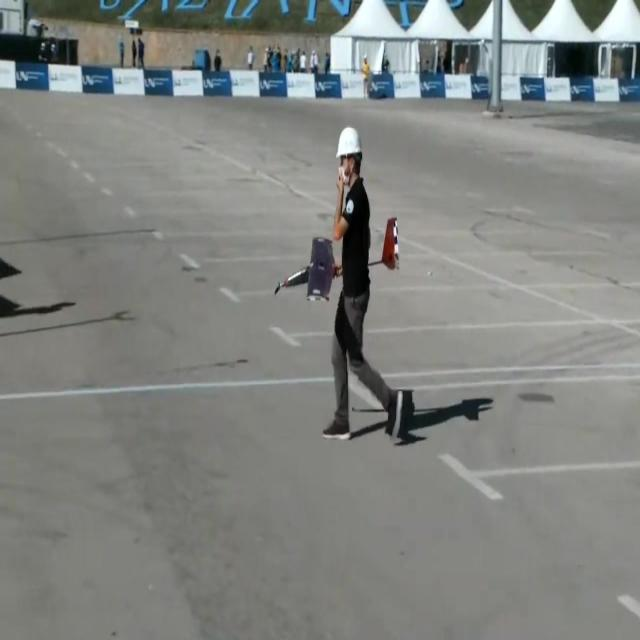iha: (273, 248, 404, 274)
